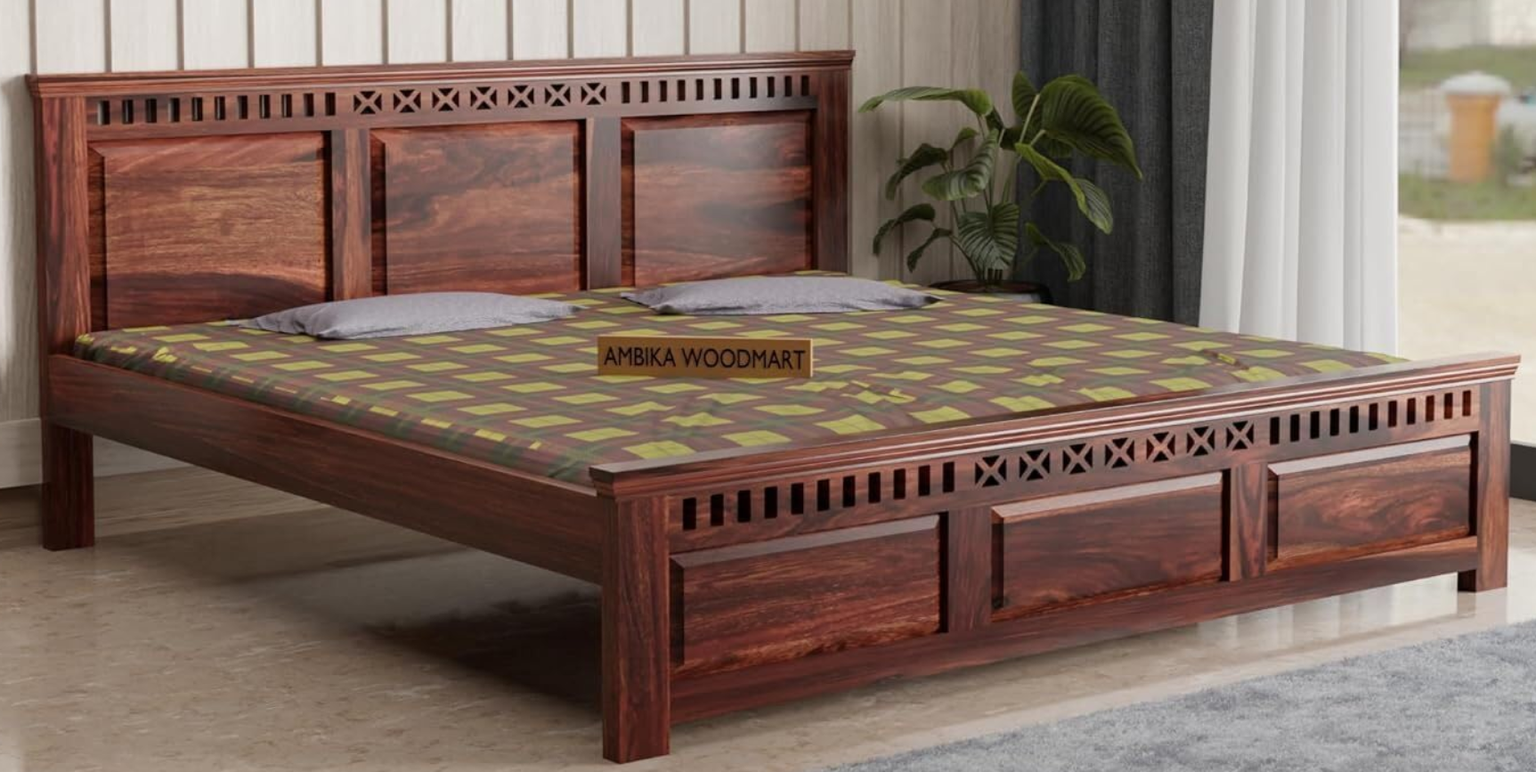cot: (7, 38, 1521, 772)
